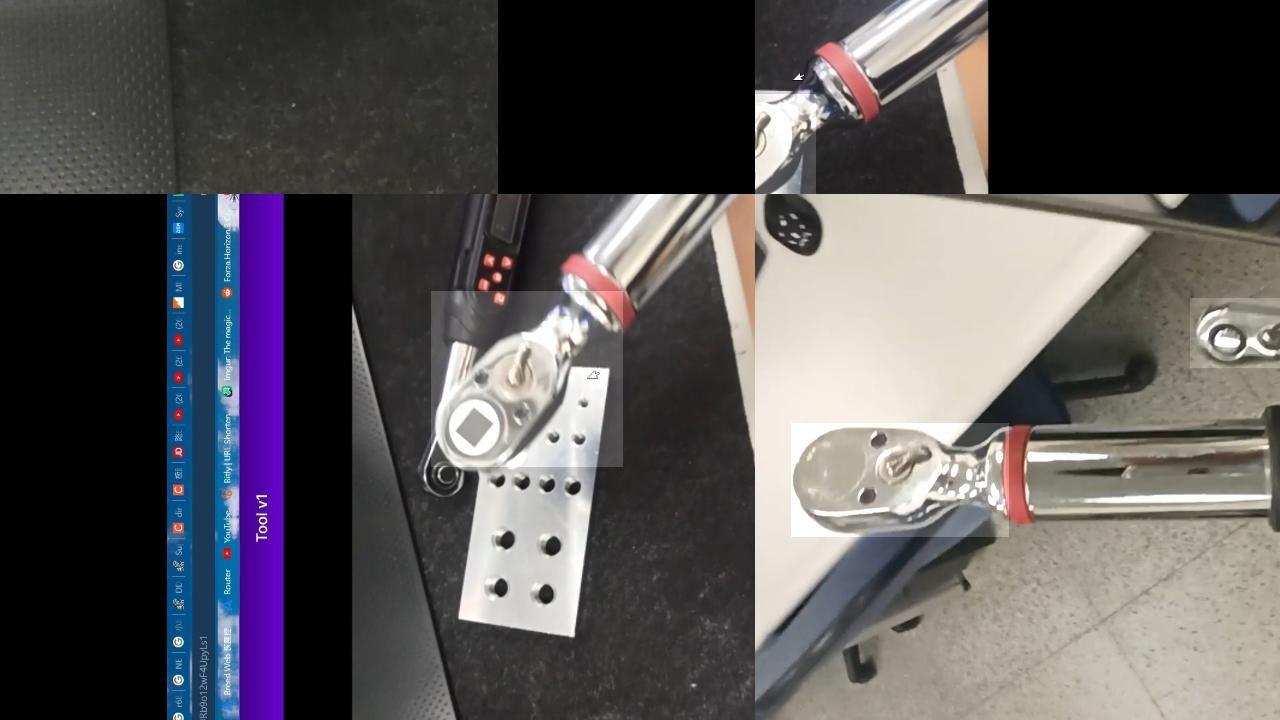Tool: (428, 290, 618, 468), (791, 423, 1008, 538), (758, 86, 815, 201), (1189, 300, 1280, 369)
hole: (484, 573, 514, 606), (528, 579, 557, 612), (493, 524, 519, 555), (536, 532, 564, 560), (536, 471, 562, 501), (563, 475, 586, 499), (487, 470, 509, 493), (514, 470, 530, 496), (569, 425, 586, 448), (546, 428, 561, 448), (578, 396, 590, 410)
